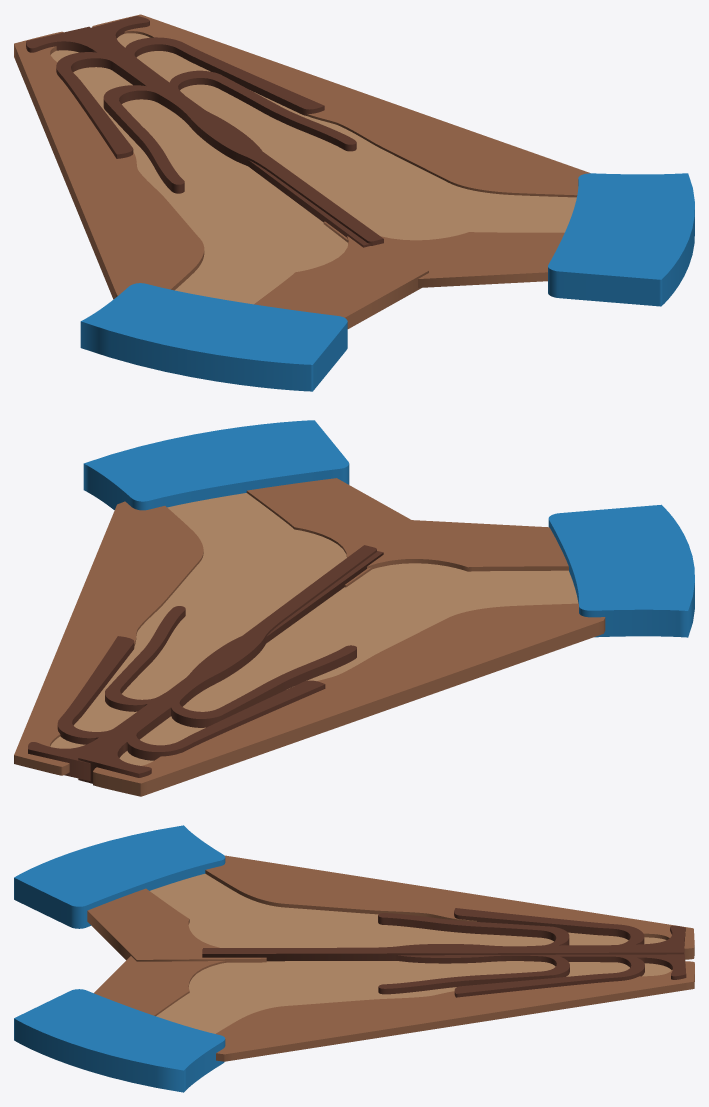
The model's file is emoji_u1f64f_1f3fd.glb.
3 views of the same model, one above another, from view 1: azimuth 30°, elevation 25°; view 2: azimuth 150°, elevation 25°; view 3: azimuth 270°, elevation 25° (orthographic). The views are drawn at different scales.
Parts seen in each view (by area): view 1: emoji_u1f64f_1f3fd; view 2: emoji_u1f64f_1f3fd; view 3: emoji_u1f64f_1f3fd.
Part boxes in pixels (<box>): emoji_u1f64f_1f3fd: <box>14,14,694,391</box>; emoji_u1f64f_1f3fd: <box>14,420,694,796</box>; emoji_u1f64f_1f3fd: <box>14,825,694,1092</box>.
Size of the model in its own units: 0.0286 by 0.0012 by 0.0335.
